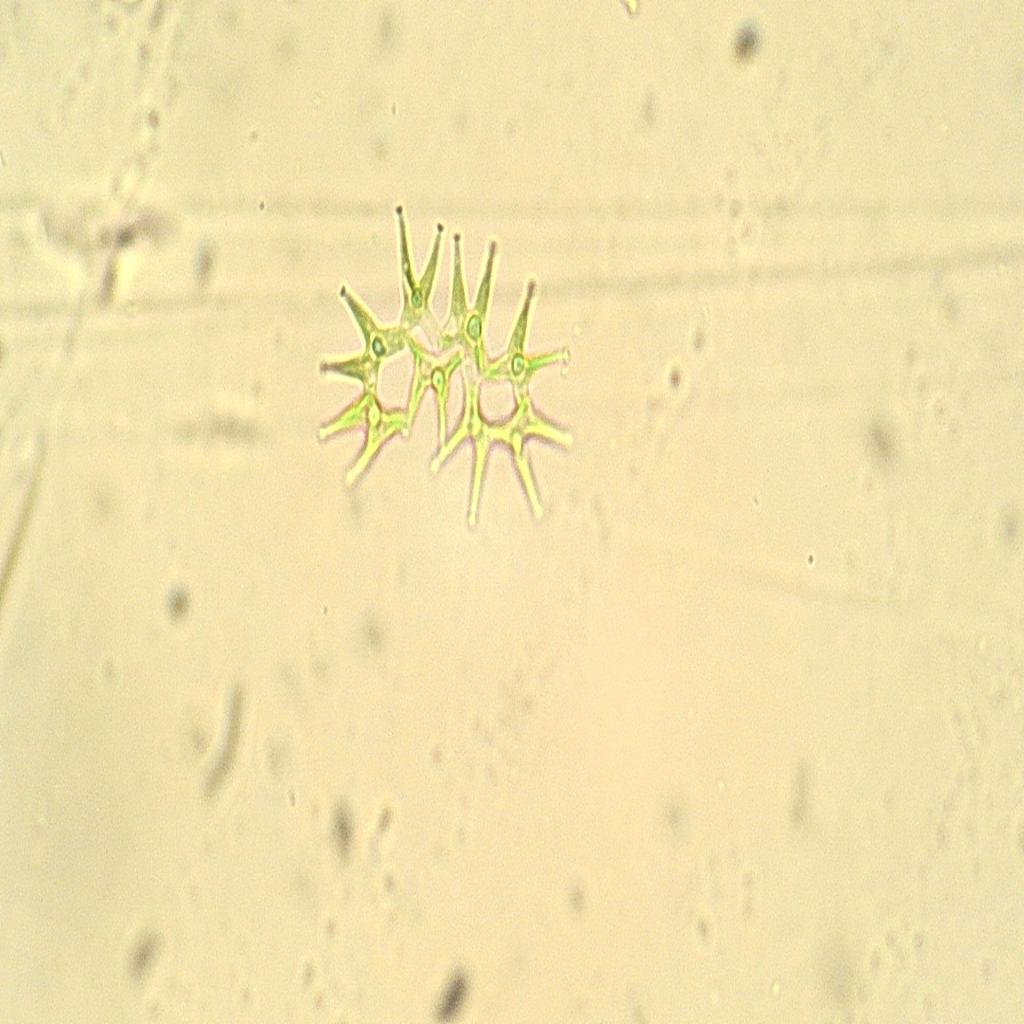Pediastrum_CFI: (283, 189, 614, 545)
